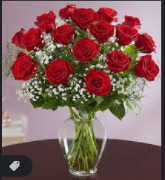RedRose: (8, 50, 39, 82), (131, 53, 160, 83), (44, 57, 72, 83), (73, 37, 100, 63), (86, 67, 109, 97), (107, 48, 131, 73), (52, 23, 78, 45), (23, 24, 43, 49), (90, 19, 114, 39), (110, 24, 134, 44), (74, 6, 99, 25), (134, 33, 158, 52), (38, 10, 61, 28), (98, 2, 116, 21), (9, 28, 26, 47), (122, 15, 145, 28), (58, 3, 73, 21)
